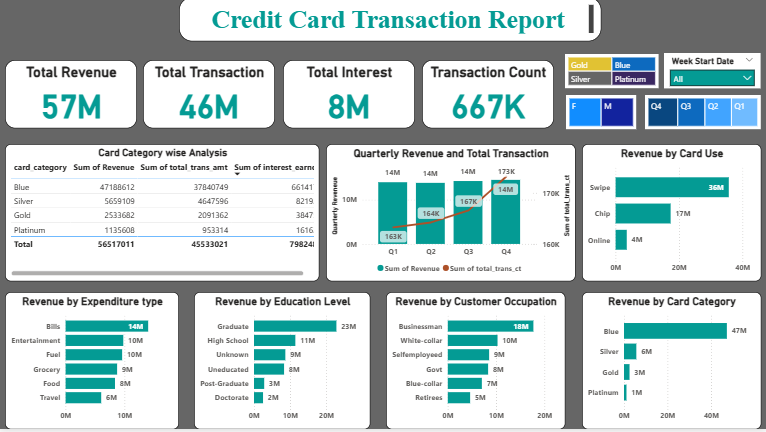

The page's visual inventory and layout, read from the dashboard file:
{"tool":"powerbi","page":{"name":"cc_transaction","canvas":[1280,720],"ordinal":0},"visuals":[{"type":"textbox","box":[300,0,704.3,74.3],"z":0},{"type":"lineClusteredColumnComboChart","title":"Quarterly Revenue and Total Transaction","fields":{"Category":["public cc_detail.qtr"],"Y":["Sum(public cc_detail.Revenue)"],"Y2":["Sum(public cc_detail.total_trans_ct)"]},"box":[544.3,245.7,415.7,228.6],"z":1},{"type":"clusteredBarChart","title":"Revenue by Customer Occupation","fields":{"Y":["Sum(public cc_detail.Revenue)"],"Category":["public cust_detail.customer_job"]},"box":[644.3,491.4,298.6,228.6],"z":2},{"type":"clusteredBarChart","title":"Revenue by Education Level","fields":{"Y":["Sum(public cc_detail.Revenue)"],"Category":["public cust_detail.education_level"]},"box":[325.7,491.4,294.3,228.6],"z":3},{"type":"clusteredBarChart","title":"Revenue by Expenditure type","fields":{"Y":["Sum(public cc_detail.Revenue)"],"Category":["public cc_detail.exp_type"]},"box":[10,491.4,290,228.6],"z":4},{"type":"clusteredBarChart","title":"Revenue by Card Category","fields":{"Y":["Sum(public cc_detail.Revenue)"],"Category":["public cc_detail.card_category"]},"box":[971.4,491.4,298.6,228.6],"z":5},{"type":"clusteredBarChart","title":"Revenue by Card Use","fields":{"Y":["Sum(public cc_detail.Revenue)"],"Category":["public cc_detail.use_chip"]},"box":[971.4,245.7,298.6,228.6],"z":6},{"type":"tableEx","title":"Card Category wise Analysis","fields":{"Values":["public cc_detail.card_category","Sum(public cc_detail.Revenue)","Sum(public cc_detail.total_trans_amt)","Sum(public cc_detail.interest_earned)"]},"box":[10,245.7,524.3,228.6],"z":7},{"type":"card","title":"Total Revenue","fields":{"Values":["Sum(public cc_detail.Revenue)"]},"box":[10,105.7,220,114.3],"z":8},{"type":"card","title":"Total Transaction","fields":{"Values":["Sum(public cc_detail.total_trans_amt)"]},"box":[240,105.7,220,114.3],"z":9},{"type":"card","title":"Total Interest","fields":{"Values":["Sum(public cc_detail.interest_earned)"]},"box":[472.9,105.7,220,114.3],"z":10},{"type":"card","title":"Transaction Count","fields":{"Values":["Sum(public cc_detail.total_trans_ct)"]},"box":[704.3,105.7,220,114.3],"z":11},{"type":"slicer","fields":{"Values":["public cc_detail.week_start_date"]},"box":[1108.6,92.9,161.4,58.6],"z":12},{"type":"treemap","fields":{"Group":["public cc_detail.qtr"],"Values":["Avg(public cc_detail.client_num)"]},"box":[1077.1,162.9,192.9,57.1],"z":13},{"type":"treemap","fields":{"Values":["Avg(public cc_detail.client_num)"],"Group":["public cust_detail.gender"]},"box":[945.7,162.9,117.1,57.1],"z":14},{"type":"treemap","fields":{"Values":["Avg(public cc_detail.client_num)"],"Group":["public cc_detail.card_category"]},"box":[942.9,94.3,155.7,57.1],"z":15}]}

Visuals, with their boxes in screenshot pixels (x1, y1, x2, y2), scaled from the page's 1280x720 canvas onto the 766x432 screenshot:
textbox: 180, 0, 601, 45
"Quarterly Revenue and Total Transaction" lineClusteredColumnComboChart: 326, 147, 574, 285
"Revenue by Customer Occupation" clusteredBarChart: 386, 295, 564, 431
"Revenue by Education Level" clusteredBarChart: 195, 295, 371, 431
"Revenue by Expenditure type" clusteredBarChart: 6, 295, 180, 431
"Revenue by Card Category" clusteredBarChart: 581, 295, 760, 431
"Revenue by Card Use" clusteredBarChart: 581, 147, 760, 285
"Card Category wise Analysis" tableEx: 6, 147, 320, 285
"Total Revenue" card: 6, 63, 138, 132
"Total Transaction" card: 144, 63, 275, 132
"Total Interest" card: 283, 63, 415, 132
"Transaction Count" card: 421, 63, 553, 132
slicer - public cc_detail.week_start_date: 663, 56, 760, 91
treemap - public cc_detail.qtr x Avg(public cc_detail.client_num): 645, 98, 760, 132
treemap - Avg(public cc_detail.client_num) x public cust_detail.gender: 566, 98, 636, 132
treemap - Avg(public cc_detail.client_num) x public cc_detail.card_category: 564, 57, 657, 91
